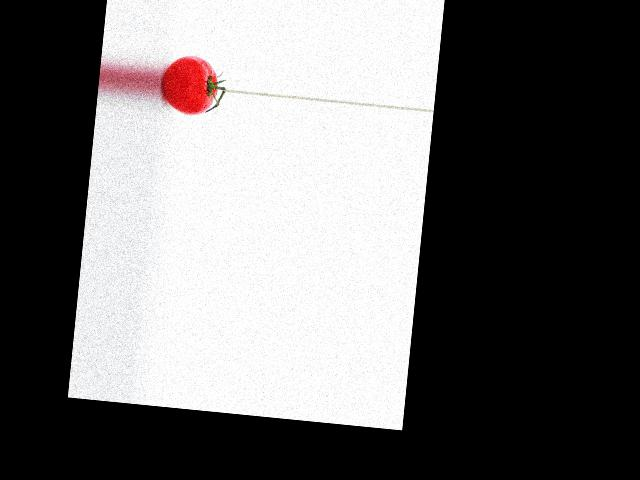tomato: (159, 52, 220, 116)
